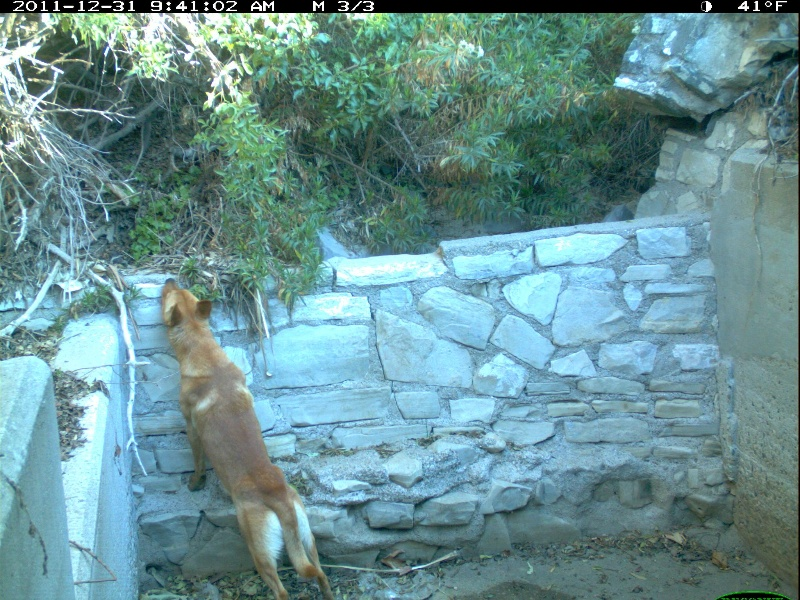dog: (152, 273, 344, 595)
